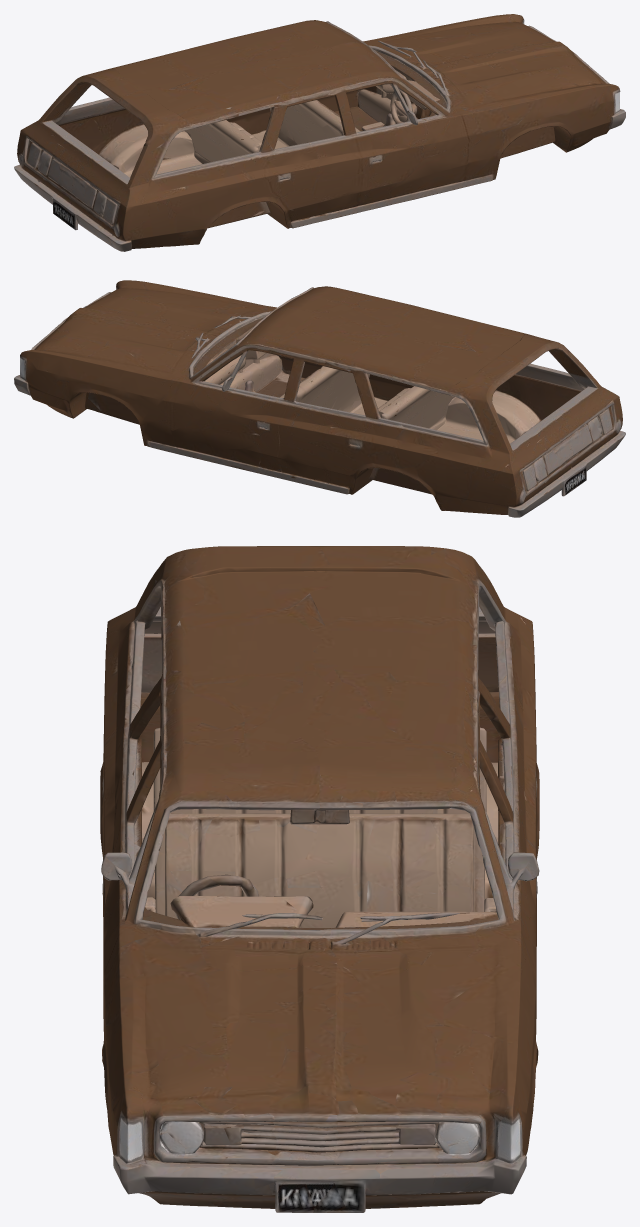
Rendered from vj_wagon2.glb.
3 renders of one model, top to bottom at view 1: azimuth 30°, elevation 25°; view 2: azimuth 150°, elevation 25°; view 3: azimuth 270°, elevation 25°, orthographic. The views are drawn at different scales.
Visible parts, largest first — view 1: vj_wagon2; view 2: vj_wagon2; view 3: vj_wagon2.
Boxes of the visible parts, x1,y1,x2,y2 form: vj_wagon2: (14, 14, 625, 251); vj_wagon2: (14, 280, 625, 517); vj_wagon2: (100, 546, 539, 1212).
Bounding box in the file's own units: 5 × 1.21 × 1.86.
Materials: 1 (1 with a texture image).
